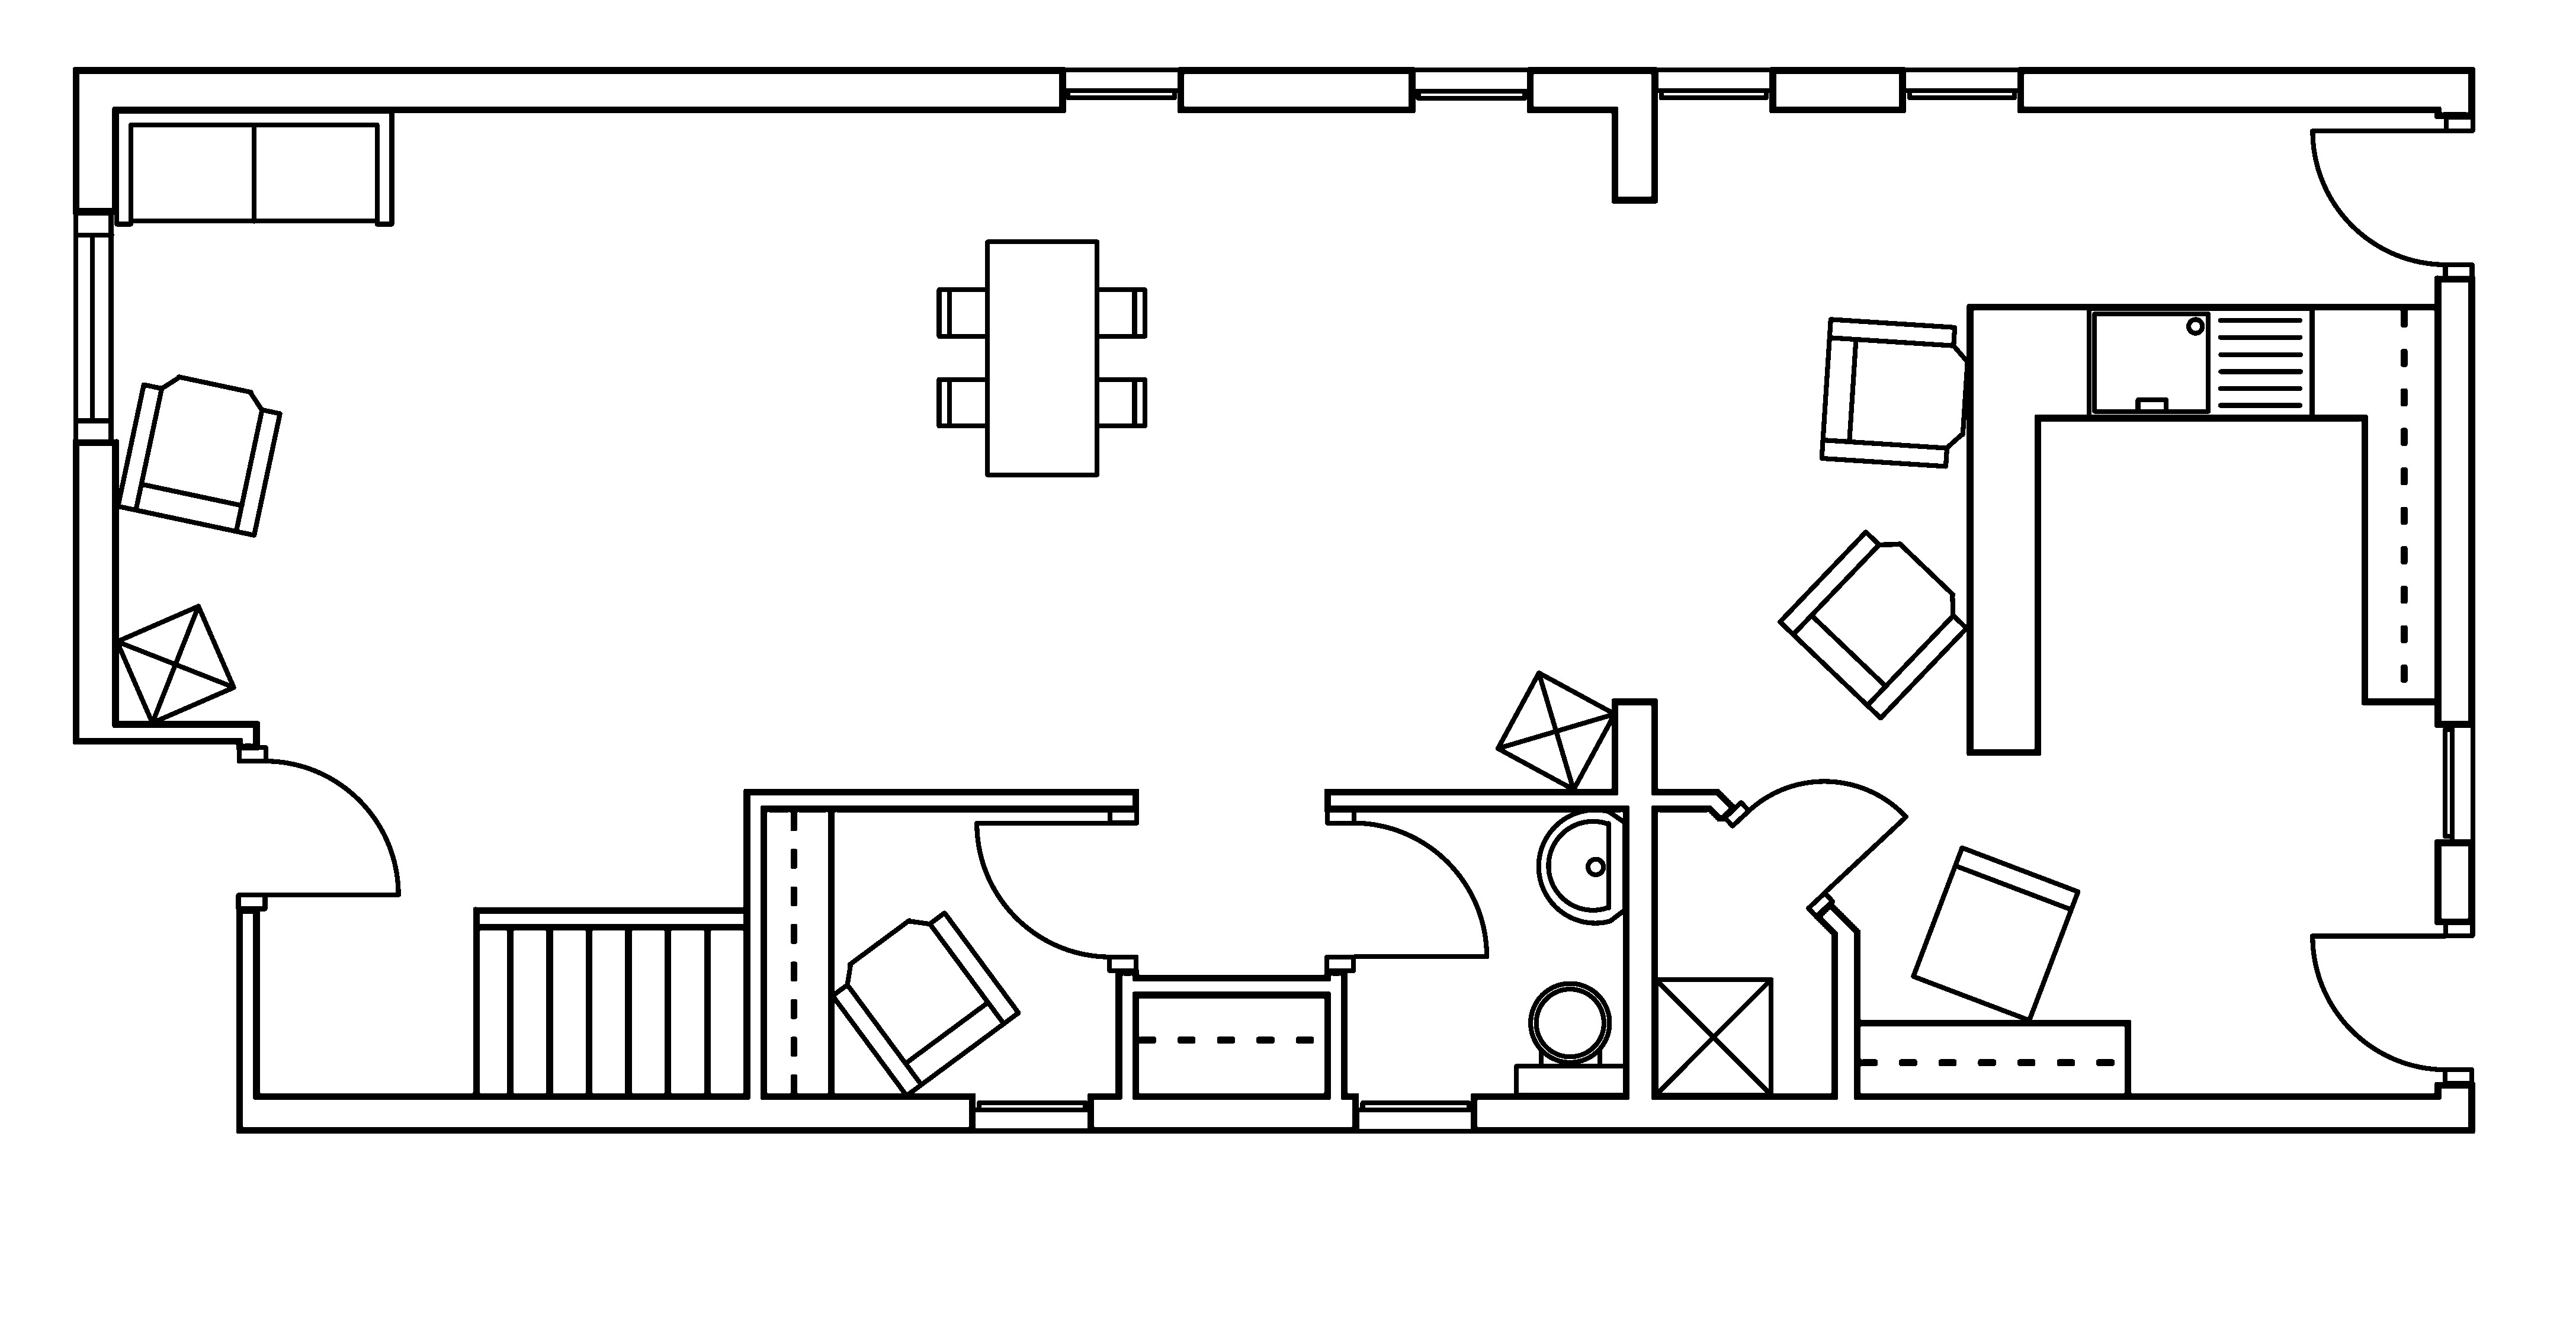armchair: (1776, 528, 1969, 720), (829, 908, 1021, 1099), (114, 373, 282, 538), (1818, 316, 1971, 469)
coffee_table: (1493, 670, 1618, 792), (113, 602, 237, 725), (1651, 976, 1774, 1097)
dining_table: (935, 239, 1147, 478)
large_sink: (1513, 981, 1628, 1097)
large_sofa: (113, 108, 395, 227)
sink: (2085, 305, 2314, 421)
small_sink: (1535, 808, 1628, 925)
small_sofa: (1910, 845, 2080, 1023)
